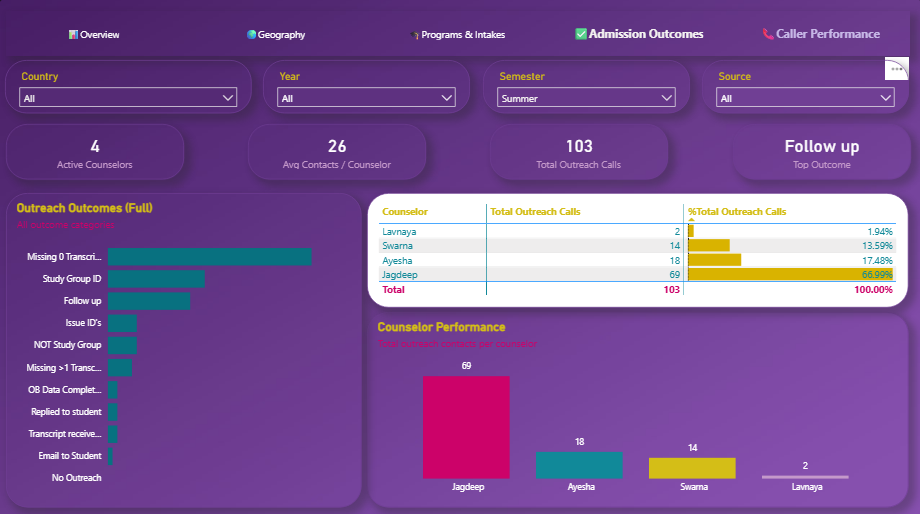

Layout of this report page (visuals, bound fields, positions):
{"tool":"powerbi","page":{"name":"📞Caller Performance","canvas":[1280,720],"ordinal":4},"visuals":[{"type":"advanceCardE03760C5AB684758B56AA29F9E6C257B","fields":{"mainMeasure":["Measures (2).Total Outreach Calls"]},"box":[680.9,174,246.8,76.9],"z":0,"group":"g2"},{"type":"columnChart","title":"Counselor Performance","fields":{"Category":["Sheet1.Caller_Name"],"Y":["Measures (2).Total Outreach Calls"]},"box":[510.9,434,750.8,271],"z":0},{"type":"advanceCardE03760C5AB684758B56AA29F9E6C257B","fields":{"mainMeasure":["Measures (2).Contacted Employees Count"]},"box":[9.2,174,246.8,76.9],"z":1000,"group":"g2"},{"type":"barChart","title":"Outreach Outcomes (Full)","fields":{"Category":["Sheet1.Outcome_1"],"Y":["Measures (2).Total Outreach Calls"]},"box":[9.2,269.2,492.6,435.8],"z":1000},{"type":"tableEx","fields":{"Values":["Sheet1.Caller_Name","Measures (2).Total Outreach Calls","Divide(Measures (2).Total Outreach Calls, ScopedEval(Measures (2).Total Outreach Calls, []))"]},"box":[510.9,269.2,750.8,159.3],"z":2000},{"type":"pageNavigator","box":[9.2,16.5,1254.4,62.3],"z":3000},{"type":"advanceCardE03760C5AB684758B56AA29F9E6C257B","fields":{"mainMeasure":["Measures (2).Avg Contacts / Counselor"]},"box":[345,174,246.8,76.9],"z":3000,"group":"g2"},{"type":"group","id":"g1","title":"Group 3","box":[9,85,1254.4,75.1],"z":4000},{"type":"advanceCardE03760C5AB684758B56AA29F9E6C257B","fields":{"mainMeasure":["Min(Sheet1.Outcome_1)"]},"box":[1016.7,174,246.8,76.9],"z":4000,"group":"g2"},{"type":"group","id":"g2","title":"Group 1","box":[9.2,174,1254.4,76.9],"z":5000},{"type":"slicer","fields":{"Values":["Sheet1.Country"]},"box":[9,85,341.6,74.2],"z":6000,"group":"g1"},{"type":"slicer","fields":{"Values":["Sheet1.Intake_Season"]},"box":[671.7,85.5,287.1,74.5],"z":7000,"group":"g1"},{"type":"slicer","fields":{"Values":["Sheet1.Intake_Year"]},"box":[367.3,85.5,287.1,74.5],"z":8000,"group":"g1"},{"type":"slicer","fields":{"Values":["Sheet1.Application_Source"]},"box":[975.1,85.5,287.1,74.5],"z":9014,"group":"g1"}]}

Visuals, with their boxes in screenshot pixels (x1, y1, x2, y2), scaled from the page's 1280x720 canvas onto the 920x514 screenshot:
advanceCardE03760C5AB684758B56AA29F9E6C257B - Measures (2).Total Outreach Calls: rect(489, 124, 667, 179)
"Counselor Performance" columnChart: rect(367, 310, 907, 503)
advanceCardE03760C5AB684758B56AA29F9E6C257B - Measures (2).Contacted Employees Count: rect(7, 124, 184, 179)
"Outreach Outcomes (Full)" barChart: rect(7, 192, 361, 503)
tableEx - Sheet1.Caller_Name x Measures (2).Total Outreach Calls: rect(367, 192, 907, 306)
pageNavigator: rect(7, 12, 908, 56)
advanceCardE03760C5AB684758B56AA29F9E6C257B - Measures (2).Avg Contacts / Counselor: rect(248, 124, 425, 179)
"Group 3" group: rect(6, 61, 908, 114)
advanceCardE03760C5AB684758B56AA29F9E6C257B - Min(Sheet1.Outcome_1): rect(731, 124, 908, 179)
"Group 1" group: rect(7, 124, 908, 179)
slicer - Sheet1.Country: rect(6, 61, 252, 114)
slicer - Sheet1.Intake_Season: rect(483, 61, 689, 114)
slicer - Sheet1.Intake_Year: rect(264, 61, 470, 114)
slicer - Sheet1.Application_Source: rect(701, 61, 907, 114)
